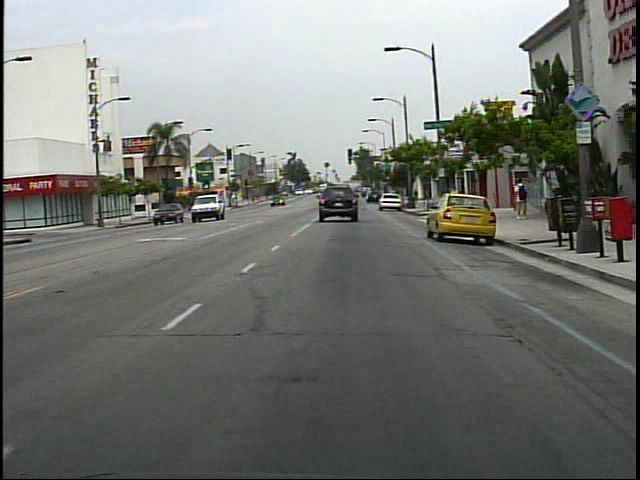person: (508, 174, 533, 222)
